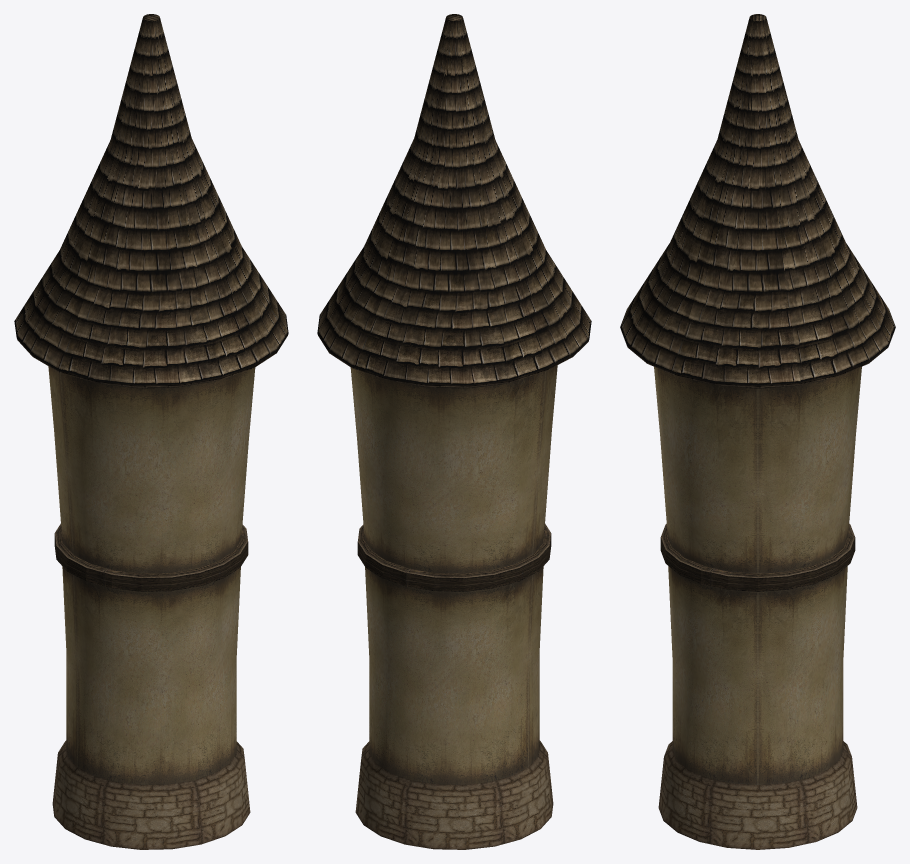
Rendered from Tower_04.fbx.
3 renders of one model, left to right at view 1: azimuth 30°, elevation 25°; view 2: azimuth 150°, elevation 25°; view 3: azimuth 270°, elevation 25°, orthographic.
Parts seen in each view (by area): view 1: Tower_04; view 2: Tower_04; view 3: Tower_04.
Boxes of the visible parts, box(x1,y1,x2,y2) form: Tower_04: box(14, 14, 288, 849); Tower_04: box(317, 14, 591, 849); Tower_04: box(620, 14, 895, 849).
Size of the model in its own units: 10.71 by 33.88 by 10.71.
